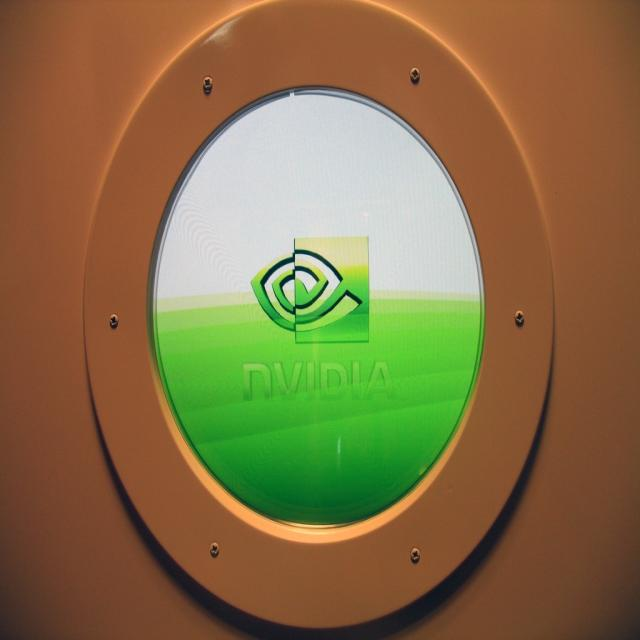nvidia: (250, 237, 370, 343)
